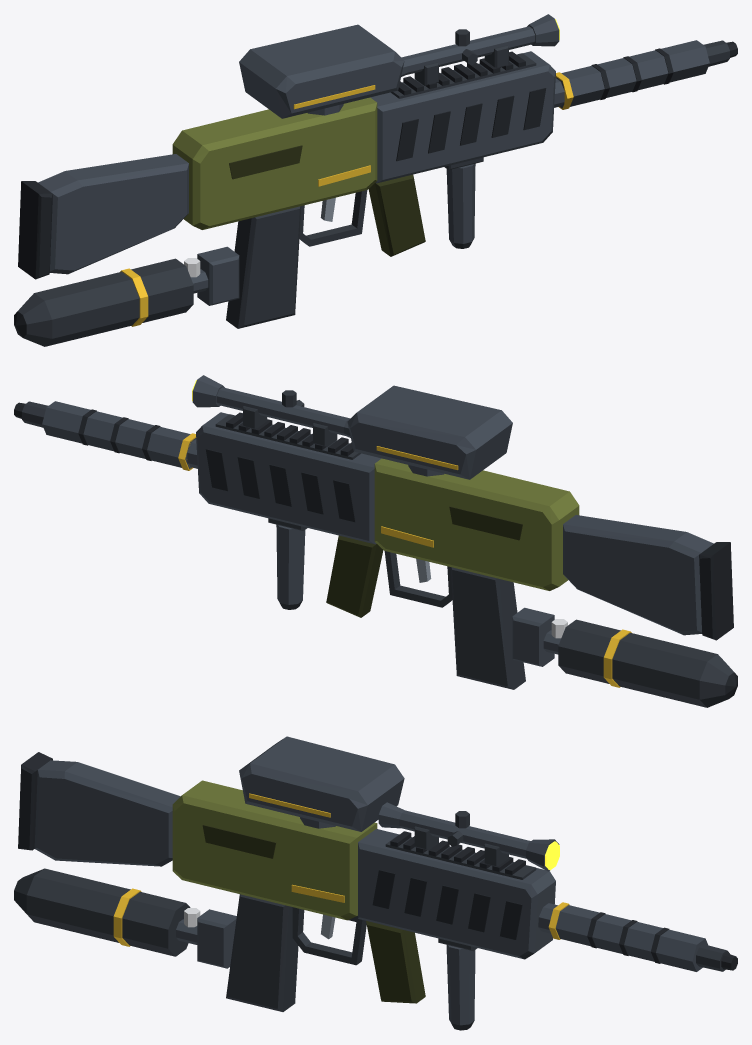
Rendered from bulldog_factory.glb.
3 views of the same model, one above another, from view 1: azimuth 30°, elevation 25°; view 2: azimuth 150°, elevation 25°; view 3: azimuth 330°, elevation 25° (orthographic).
Visible parts, largest first — view 1: bulldog_factory; view 2: bulldog_factory; view 3: bulldog_factory.
Part boxes in pixels (box(x1,y1,x2,y2)): bulldog_factory: box(14, 14, 737, 346); bulldog_factory: box(14, 375, 737, 707); bulldog_factory: box(14, 736, 737, 1030).
Size of the model in its own units: 0.904 by 0.304 by 0.0987.
